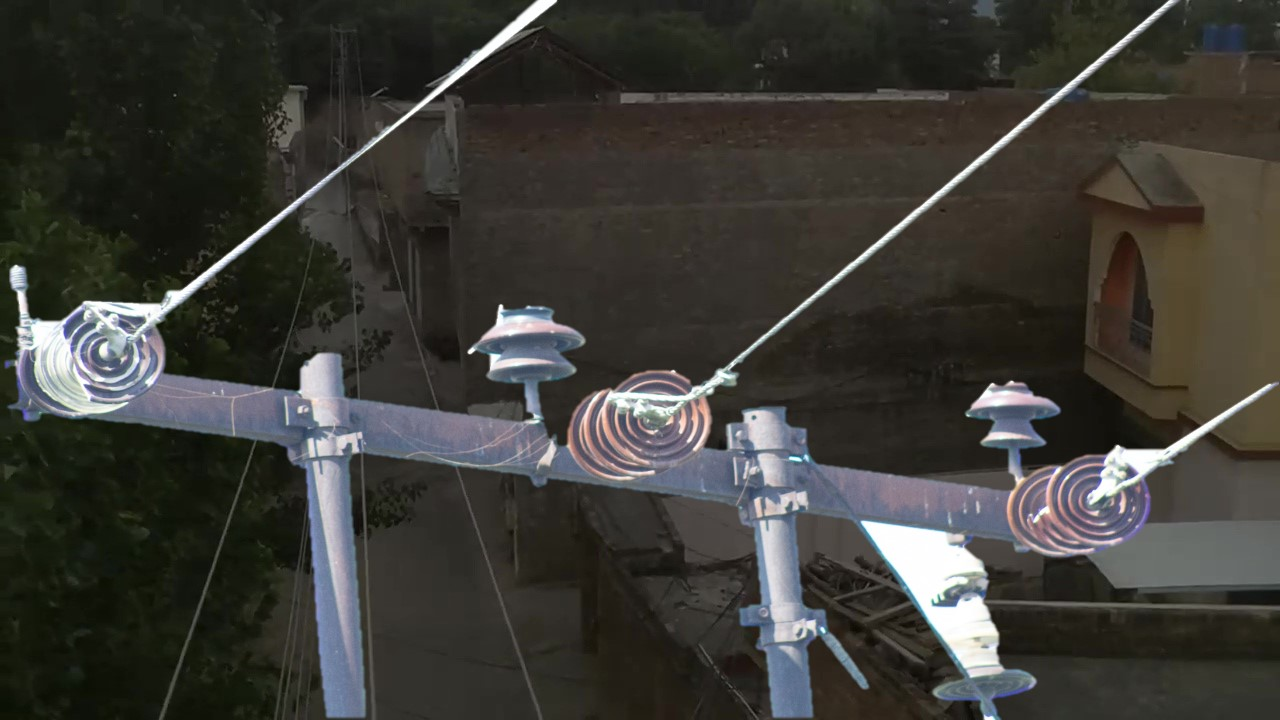defect_disc: (56, 288, 174, 415)
insulator_disc: (597, 359, 714, 473), (1043, 441, 1156, 556)
